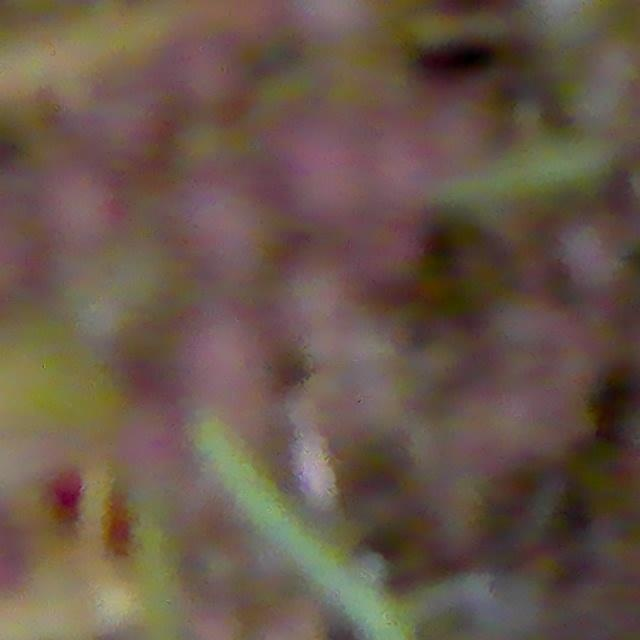SeaGrape: (147, 24, 262, 134), (287, 110, 372, 247), (30, 152, 140, 256), (184, 307, 277, 422), (177, 174, 272, 286), (76, 93, 167, 173), (374, 123, 440, 225)
